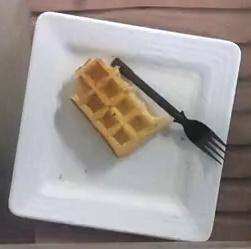waffle: (72, 58, 168, 157)
